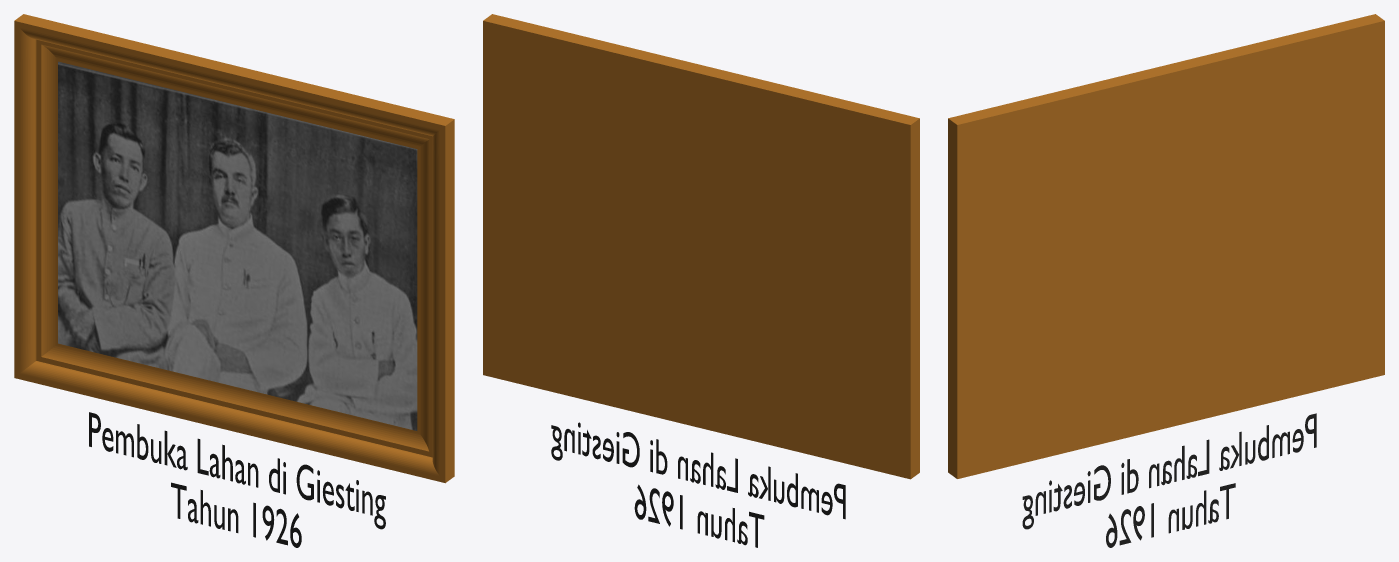
The model's file is tokoh.glb.
The picture shows the model from 3 angles, left to right: view 1: azimuth 30°, elevation 25°; view 2: azimuth 210°, elevation 25°; view 3: azimuth 270°, elevation 25°; orthographic projection.
Visible parts, largest first — view 1: 5, 5t; view 2: 5, 5t; view 3: 5, 5t.
Part boxes in pixels (x1,y1,x2,y2): 5: (14,14,454,483); 5t: (89,412,385,547); 5: (483,14,919,479); 5t: (551,422,845,547); 5: (948,14,1384,478); 5t: (1022,413,1316,547).
Size of the model in its own units: 128 by 248 by 212.
Materials: 4 (1 with a texture image).
